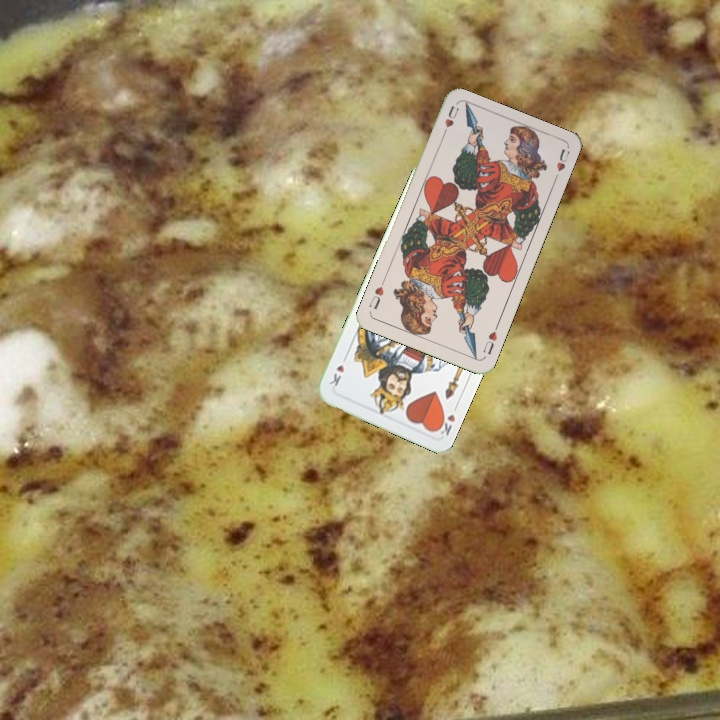HK: (432, 408, 458, 438)
HU: (438, 102, 461, 140), (479, 321, 501, 357)
